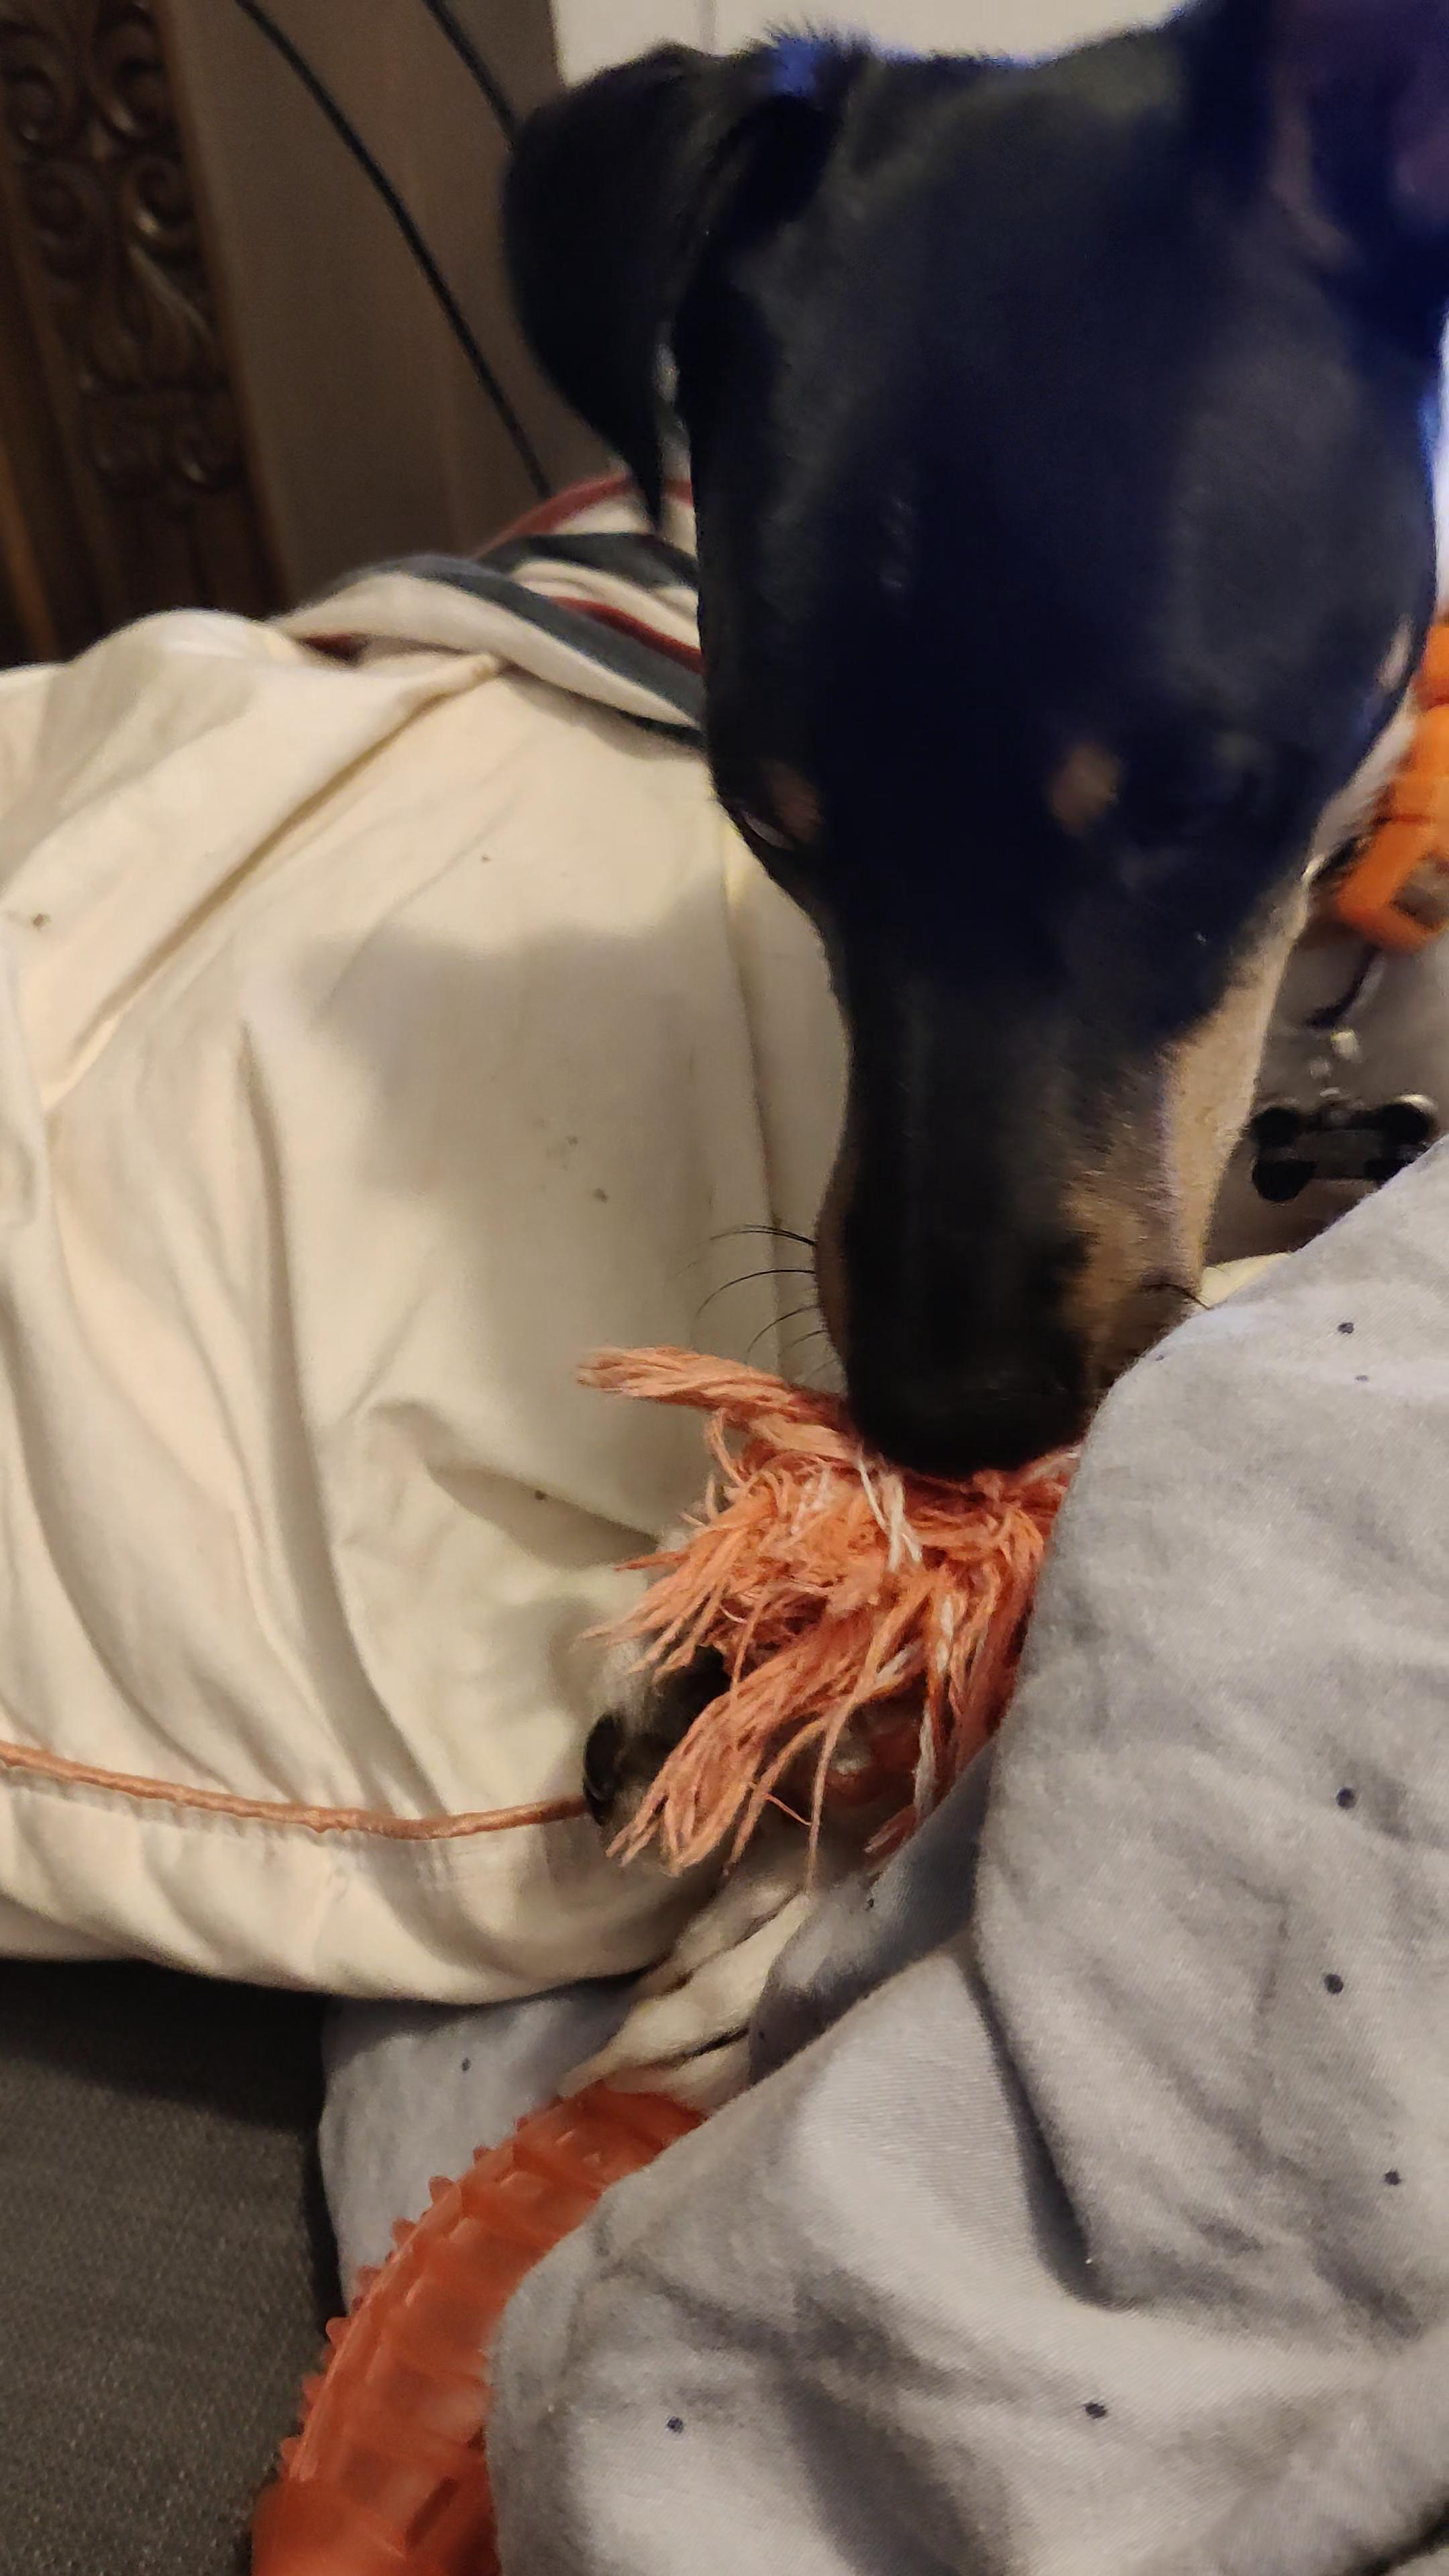Dog: (495, 0, 1449, 2162)
